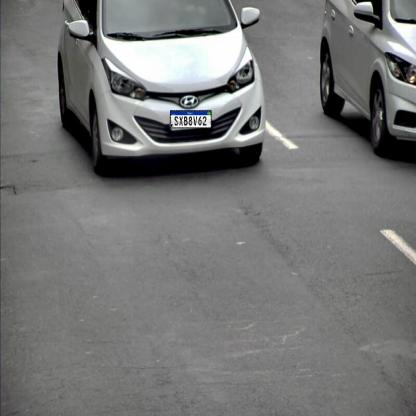PlacaM: (170, 110, 212, 128)
